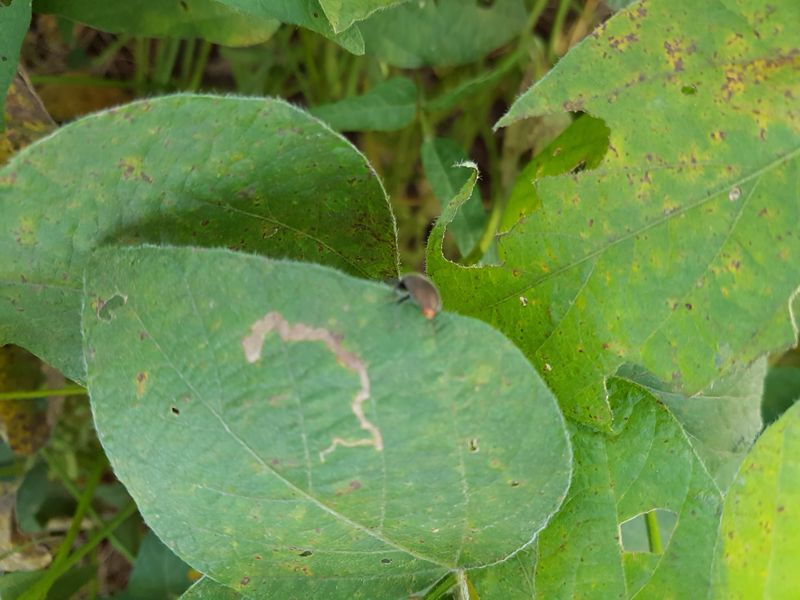Lagria_villosa: (382, 264, 452, 327)
